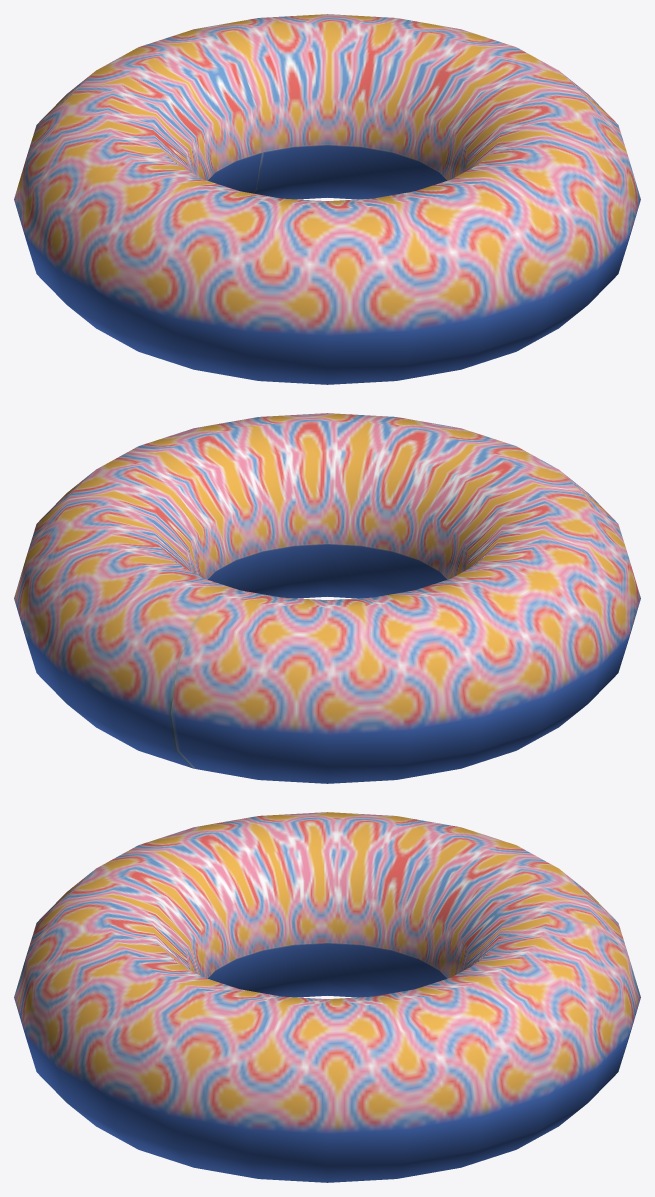
Rendered from BADTRIP.fbx.
3 views of the same model, one above another, from view 1: azimuth 30°, elevation 25°; view 2: azimuth 150°, elevation 25°; view 3: azimuth 270°, elevation 25° (orthographic).
Visible parts, largest first — view 1: FLOAT_BADTRIP; view 2: FLOAT_BADTRIP; view 3: FLOAT_BADTRIP.
Part boxes in pixels (x1,y1,x2,y2): FLOAT_BADTRIP: (14, 14, 640, 384); FLOAT_BADTRIP: (14, 413, 640, 783); FLOAT_BADTRIP: (14, 812, 640, 1182).
Size of the model in its own units: 170 by 50 by 170.
